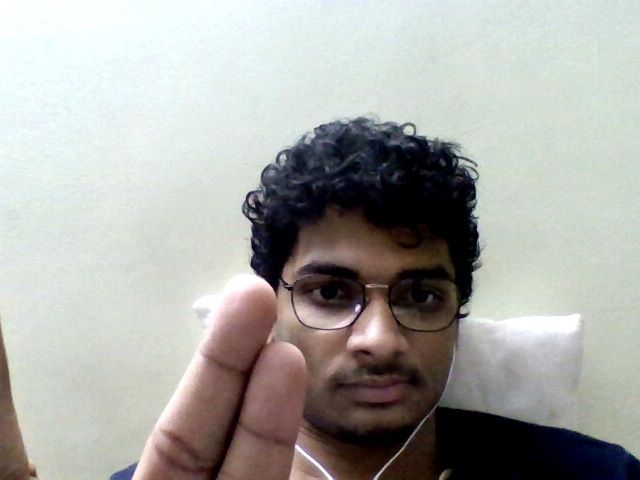LiveLong: (7, 274, 314, 479)
